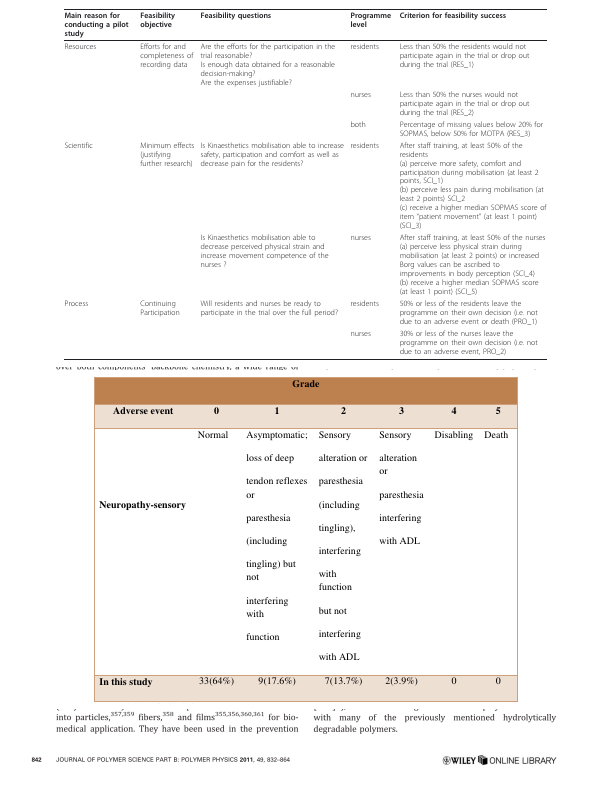bordered: (93, 376, 517, 701)
borderless: (63, 7, 547, 359)
cell: (245, 428, 309, 643), (399, 141, 547, 231), (318, 428, 368, 663), (399, 233, 546, 297), (199, 42, 336, 87), (378, 428, 425, 547), (199, 233, 329, 270), (199, 141, 345, 168), (399, 299, 539, 327), (399, 329, 539, 357), (399, 42, 530, 70), (399, 90, 530, 117), (199, 299, 339, 318), (399, 120, 544, 138), (64, 11, 129, 38), (139, 42, 194, 70), (139, 141, 195, 168), (98, 497, 187, 511), (399, 11, 507, 20), (112, 403, 174, 417), (139, 299, 181, 318), (349, 11, 392, 29), (98, 674, 154, 687), (139, 11, 176, 29), (199, 11, 272, 20), (434, 428, 474, 441), (257, 674, 297, 687), (324, 674, 363, 687), (198, 674, 235, 687), (384, 674, 419, 687), (197, 428, 229, 441), (291, 376, 320, 390), (483, 428, 509, 441), (64, 42, 97, 52), (349, 42, 380, 52), (349, 299, 380, 309), (63, 141, 94, 150), (349, 141, 380, 150), (63, 299, 89, 309), (349, 233, 372, 243), (349, 329, 372, 339), (349, 90, 372, 99), (349, 120, 367, 129), (213, 403, 220, 417), (274, 403, 281, 417), (340, 403, 347, 417), (398, 403, 405, 417), (450, 403, 457, 417), (495, 403, 502, 417), (450, 674, 457, 687), (495, 674, 502, 687)
